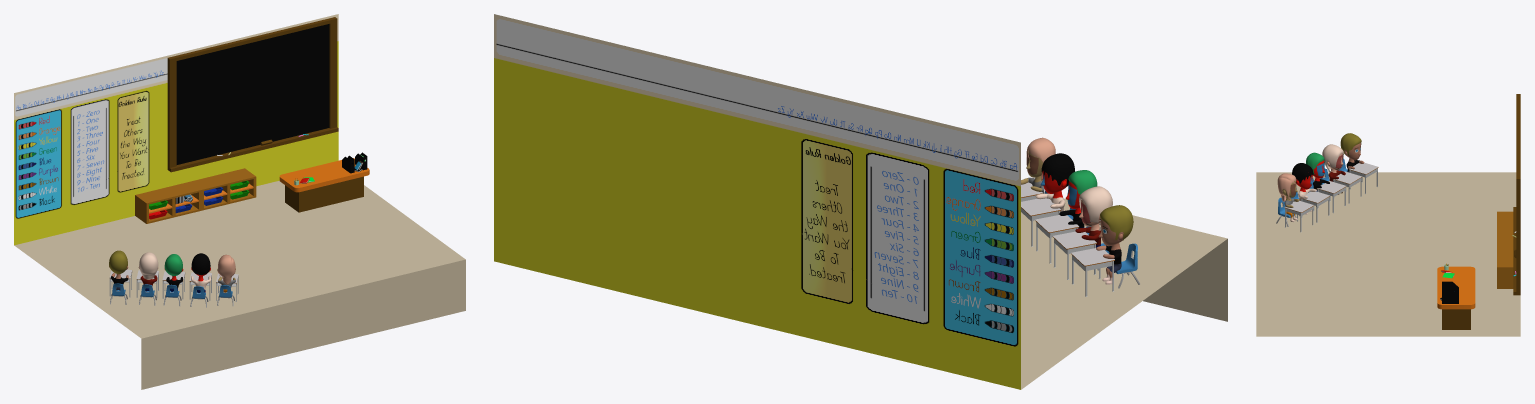
The model's file is Class Room - Grade 1 to Grade 3.fbx.
3 views of the same model, side by side, from view 1: azimuth 30°, elevation 25°; view 2: azimuth 150°, elevation 25°; view 3: azimuth 270°, elevation 25° (orthographic). The views are drawn at different scales.
Visible parts, largest first — view 1: Grade 1 ClassRoom.116; view 2: Grade 1 ClassRoom.116; view 3: Grade 1 ClassRoom.116.
Part boxes in pixels (x1,y1,x2,y2): Grade 1 ClassRoom.116: (14,14,465,389); Grade 1 ClassRoom.116: (494,14,1227,389); Grade 1 ClassRoom.116: (1256,94,1520,336).
Size of the model in its own units: 762 by 457 by 518.
